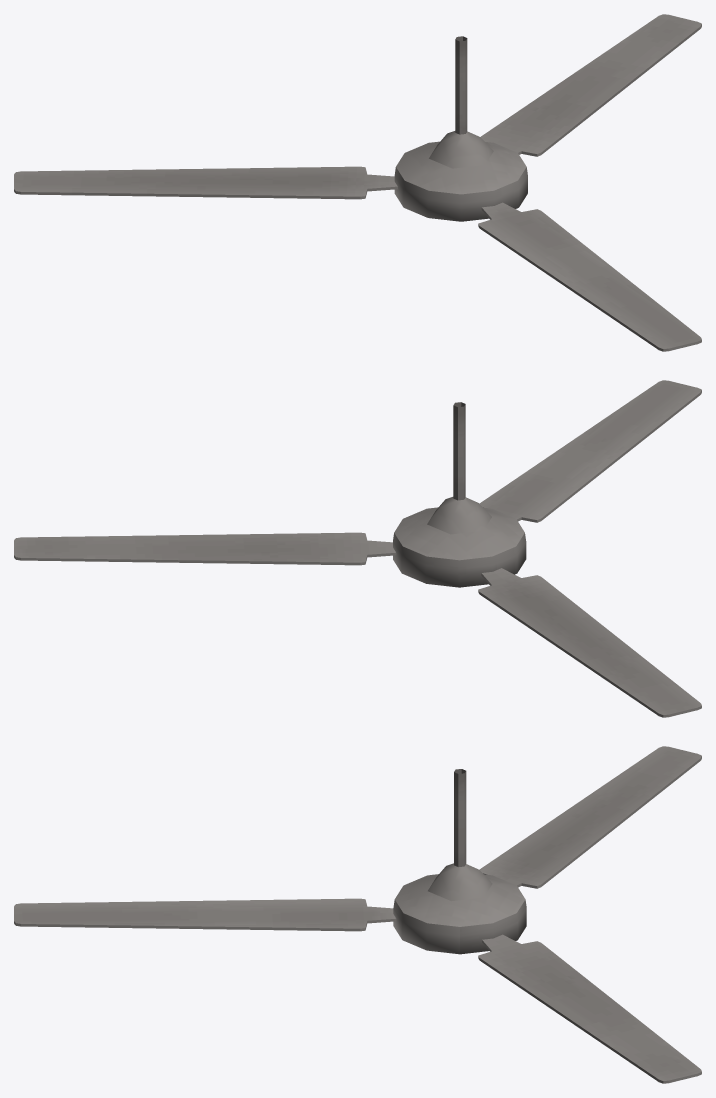
Rendered from Fan.FBX.
3 views of the same model, one above another, from view 1: azimuth 30°, elevation 25°; view 2: azimuth 150°, elevation 25°; view 3: azimuth 270°, elevation 25° (orthographic).
Visible parts, largest first — view 1: Cylinder030; view 2: Cylinder030; view 3: Cylinder030.
Boxes of the visible parts, left/top/right/bottom form: Cylinder030: left=14, top=14, right=701, bottom=351; Cylinder030: left=14, top=380, right=701, bottom=717; Cylinder030: left=14, top=746, right=701, bottom=1083.
Size of the model in its own units: 530 by 121 by 460.
Materials: 1 (1 with a texture image).
